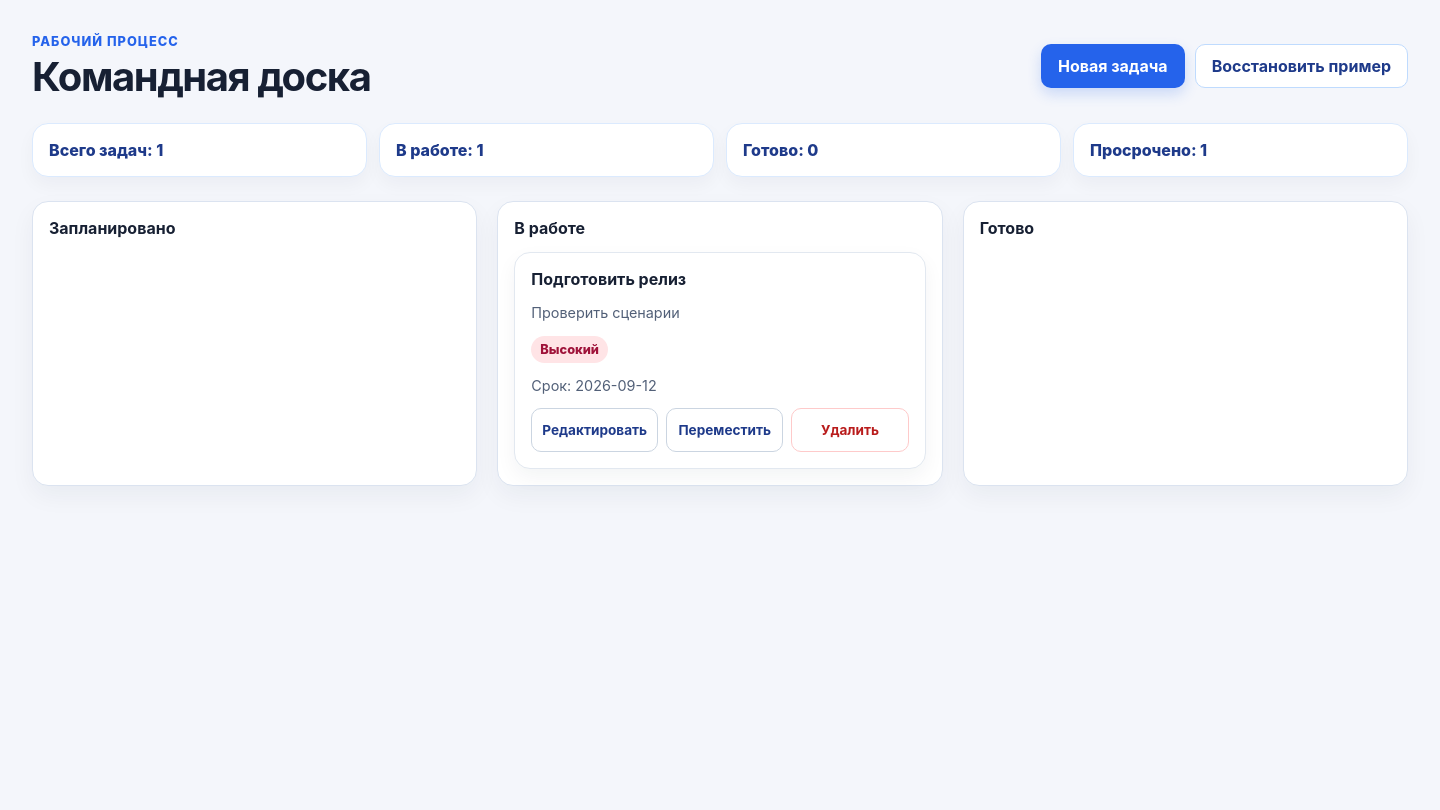
it: App › resets the board only after confirmation
The image size is (1440, 810).
Expected: the heading "Подготовить релиз" is shown, [531, 269, 686, 289]
Expected: the text "Просрочено: 1" is shown, [1073, 123, 1408, 177]
Click the button "Восстановить пример" at coordinates (1301, 66), box [1195, 44, 1408, 88]
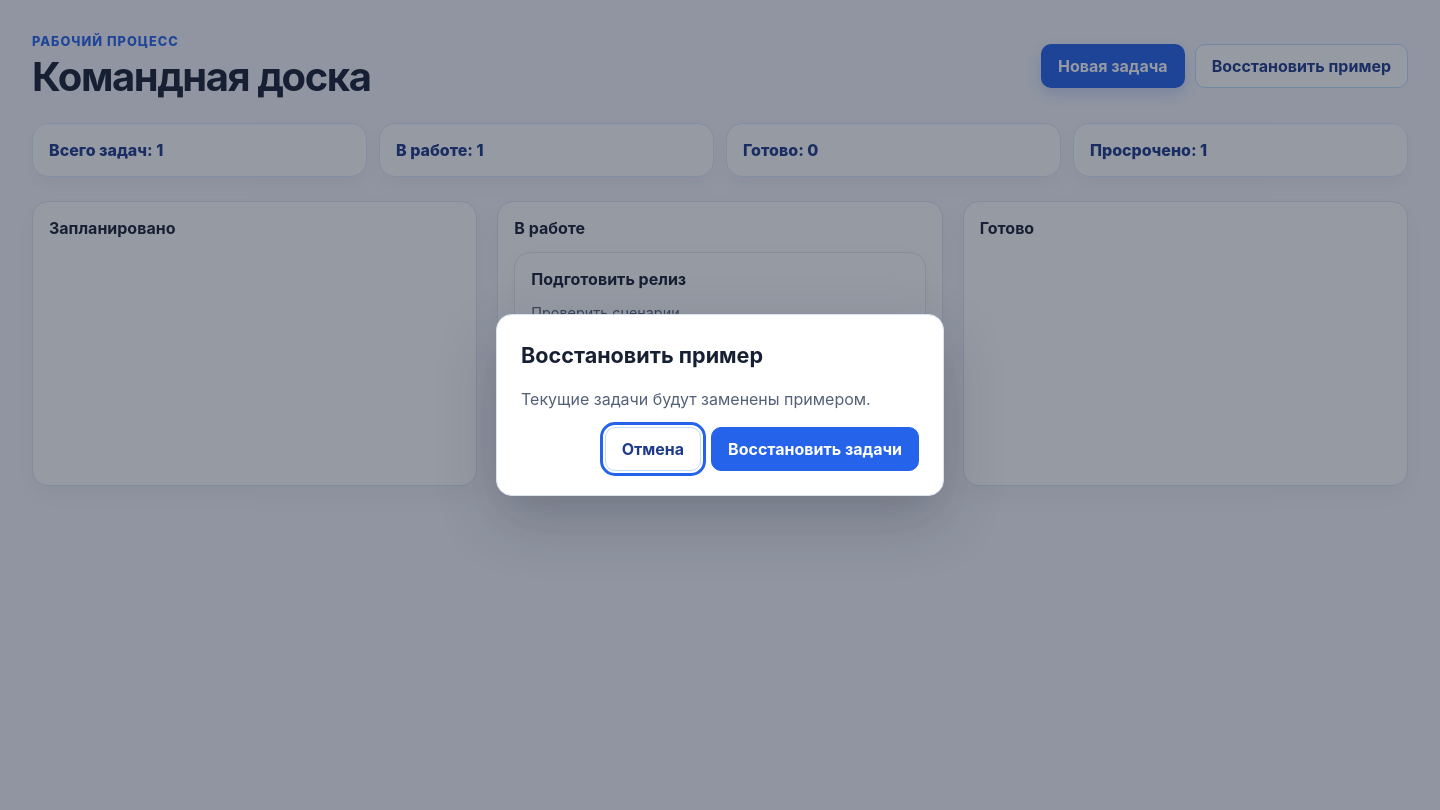
Click the button "Восстановить задачи" at coordinates (815, 449), box [711, 427, 919, 471]
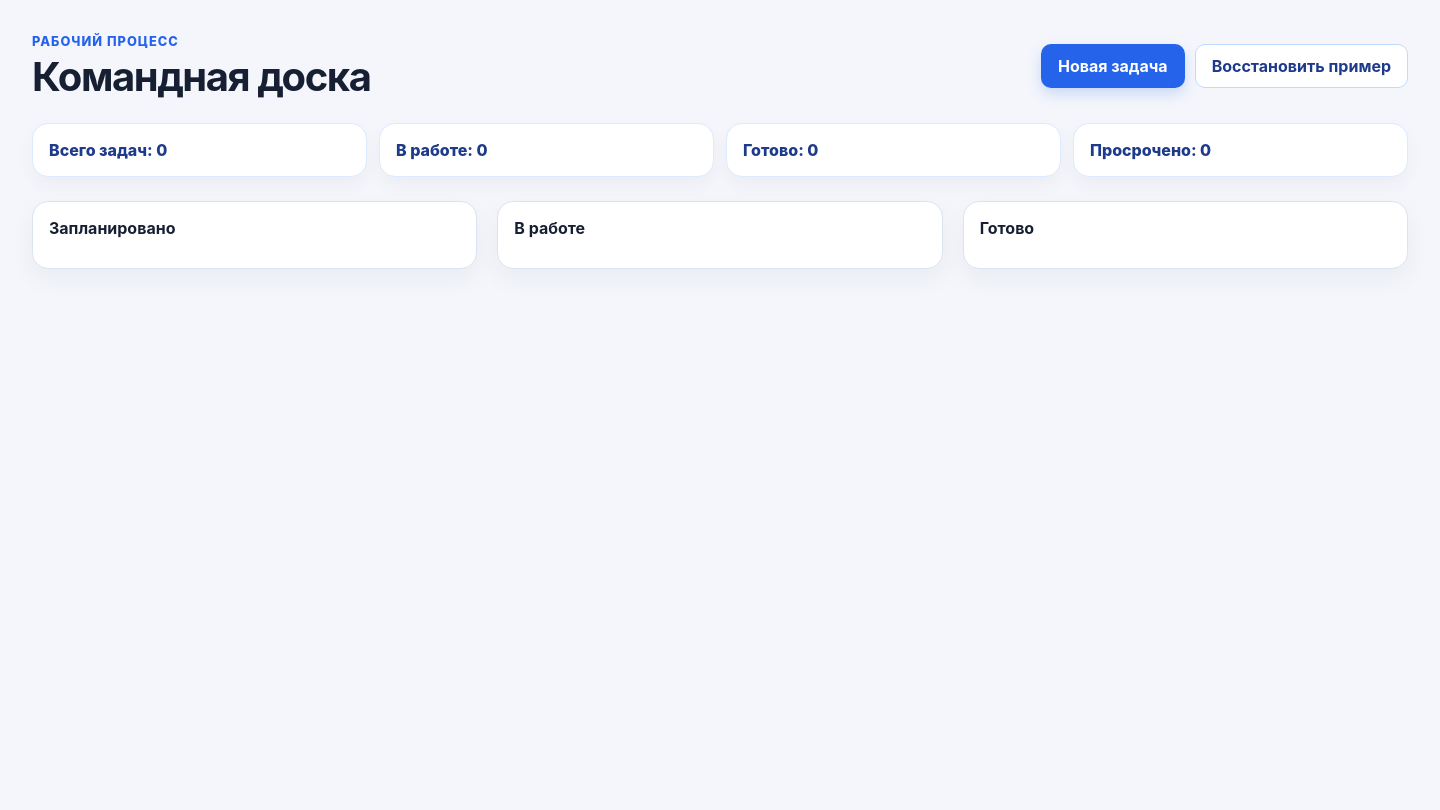
Expected: the text "Просрочено: 0" is shown, [1073, 123, 1408, 177]
